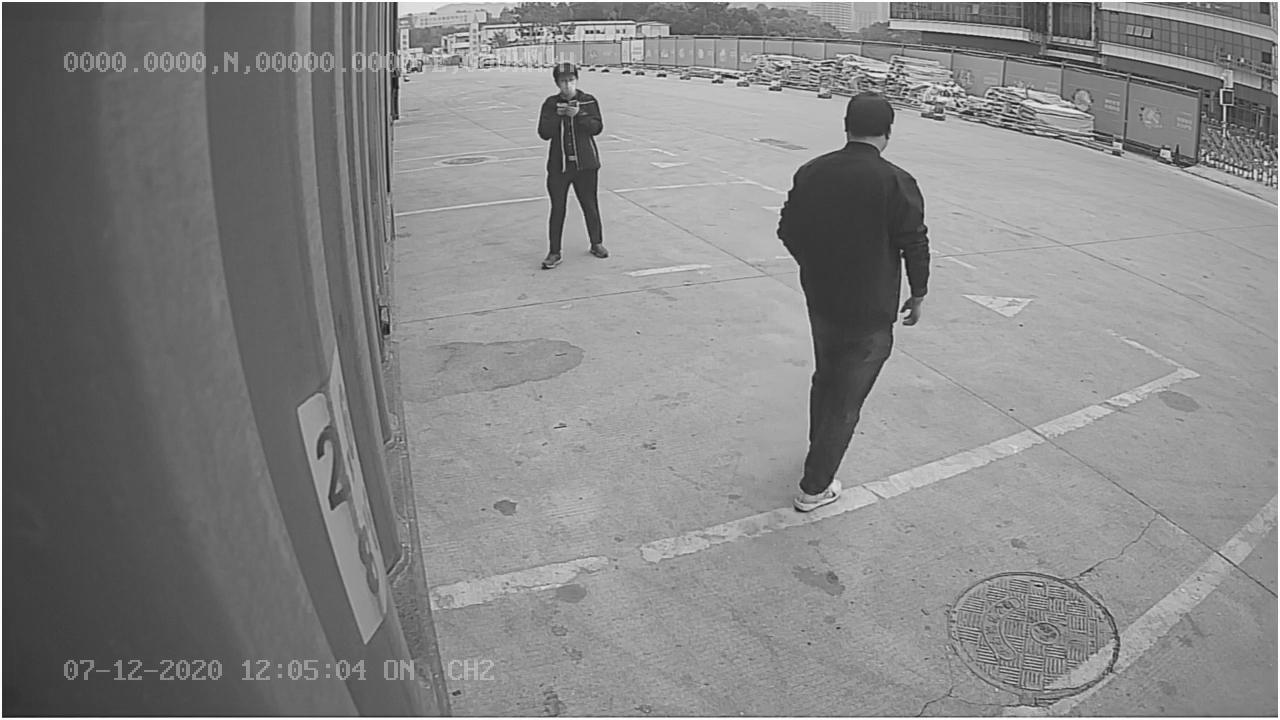person: (779, 92, 935, 517)
